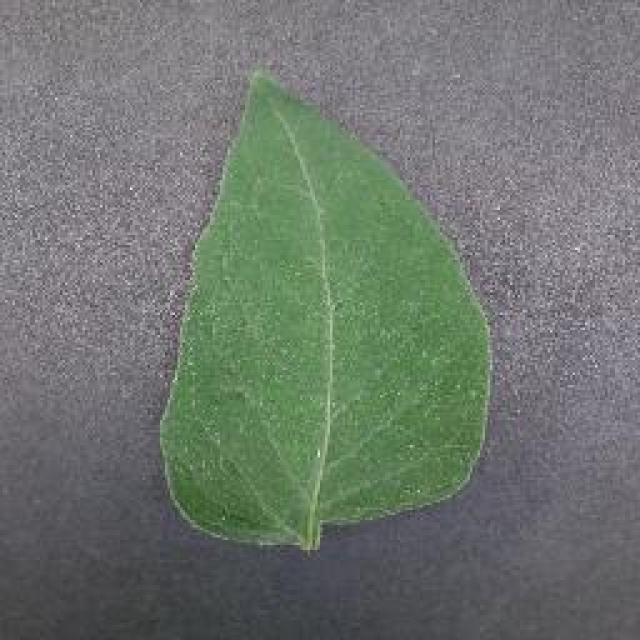Tomato_Healthy: (127, 46, 514, 596)
